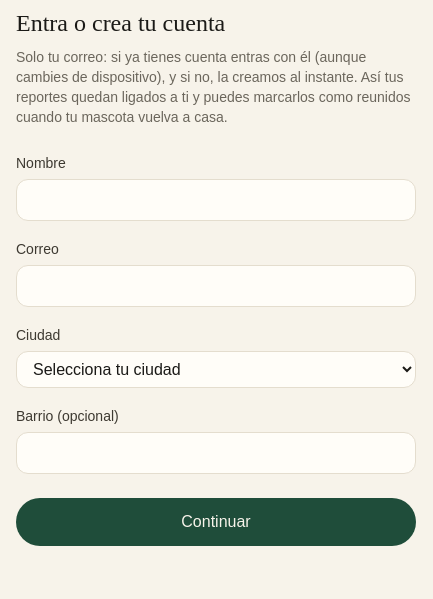
Test: Registro › si el backend falla de verdad, muestra el mensaje y no navega
The image size is (433, 599).
In the field labelled "Nombre": (216, 200) [16,179,416,221], type "Ana Martínez"
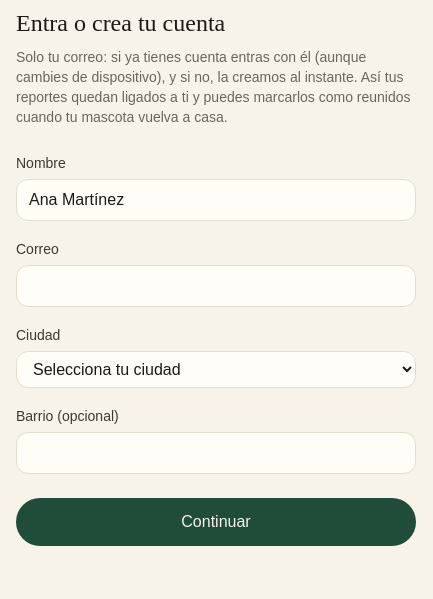
In the field labelled "Correo": (216, 286) [16,265,416,307], type "ana@example.com"
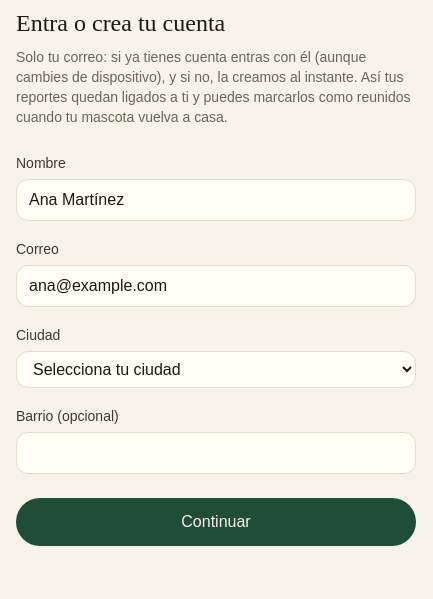
Select "Armenia" in the dropdown labelled "Ciudad": (216, 370) [16,351,416,388]
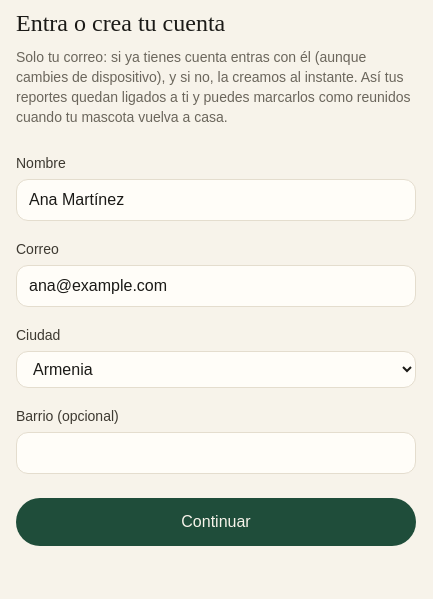
In the field labelled "Barrio (opcional)": (216, 453) [16,432,416,474], type "La Castellana"
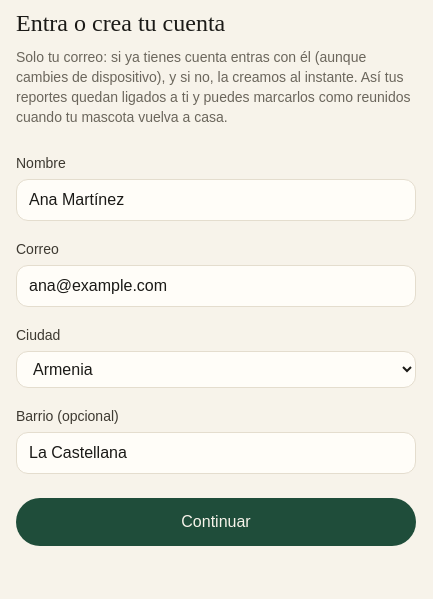
Click the button "Continuar": (216, 522) [16,498,416,546]
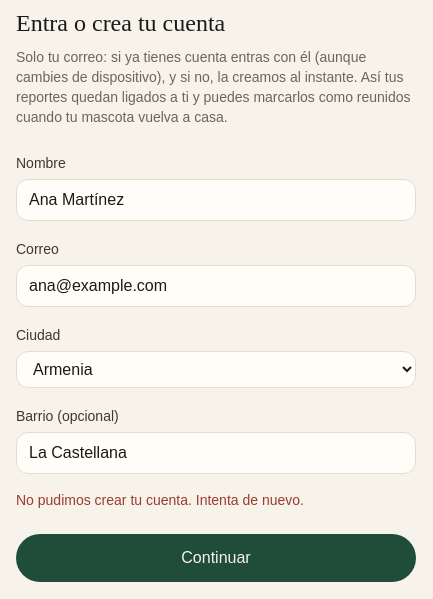
Expected: the text "No pudimos crear tu cuenta. Intenta de nuevo." is shown, [16,492,304,508]
